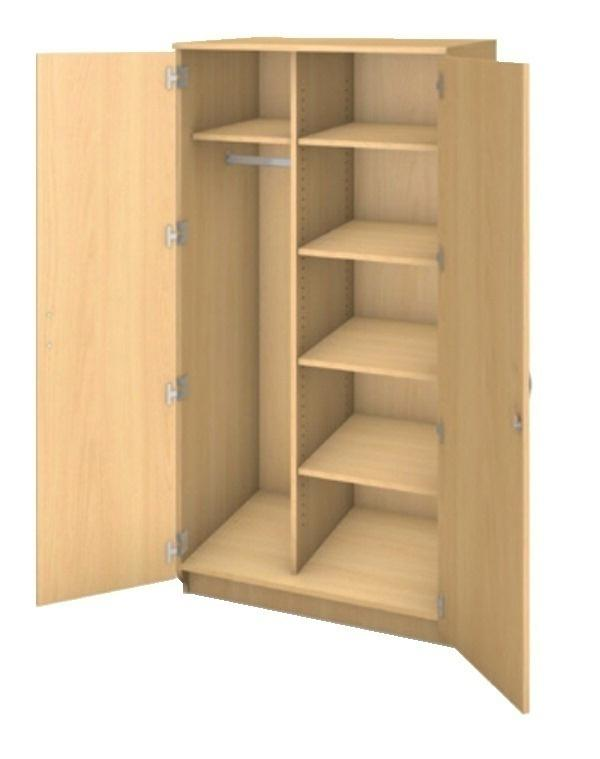cabinet_door: (42, 44, 176, 577), (436, 71, 521, 647)
